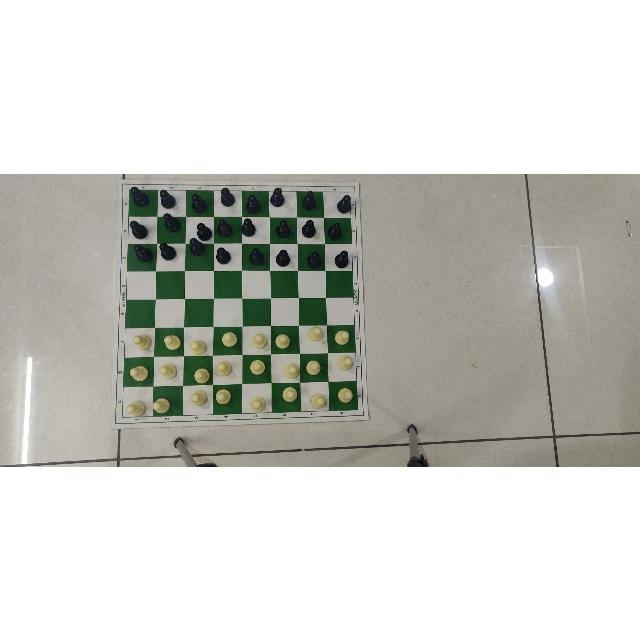black-pawn: (129, 184, 149, 208), (162, 210, 182, 233), (129, 218, 149, 239), (133, 242, 153, 263), (158, 187, 176, 209), (191, 192, 209, 214), (218, 185, 235, 207), (245, 192, 262, 214), (159, 240, 177, 260), (189, 236, 206, 256), (299, 218, 316, 238), (326, 220, 343, 240), (335, 193, 352, 213), (217, 217, 233, 237), (276, 218, 292, 238), (215, 245, 231, 265), (334, 249, 350, 269), (301, 188, 316, 209), (197, 221, 213, 240), (249, 246, 265, 265), (306, 249, 322, 268), (271, 186, 286, 206), (241, 216, 256, 236), (275, 248, 290, 266)
white-pawn: (128, 363, 149, 382), (125, 399, 147, 417), (151, 395, 171, 414), (131, 333, 152, 351), (189, 387, 208, 406), (158, 362, 178, 380), (214, 386, 232, 405), (221, 330, 239, 348), (163, 333, 181, 350), (189, 338, 207, 355), (274, 332, 291, 350), (193, 366, 211, 383), (249, 358, 266, 376), (333, 328, 350, 346), (336, 386, 353, 404), (249, 395, 266, 413), (251, 331, 268, 348), (307, 324, 324, 341), (215, 359, 232, 376), (310, 392, 326, 410), (283, 362, 300, 378), (336, 354, 353, 370), (305, 358, 321, 375), (282, 385, 298, 402)
